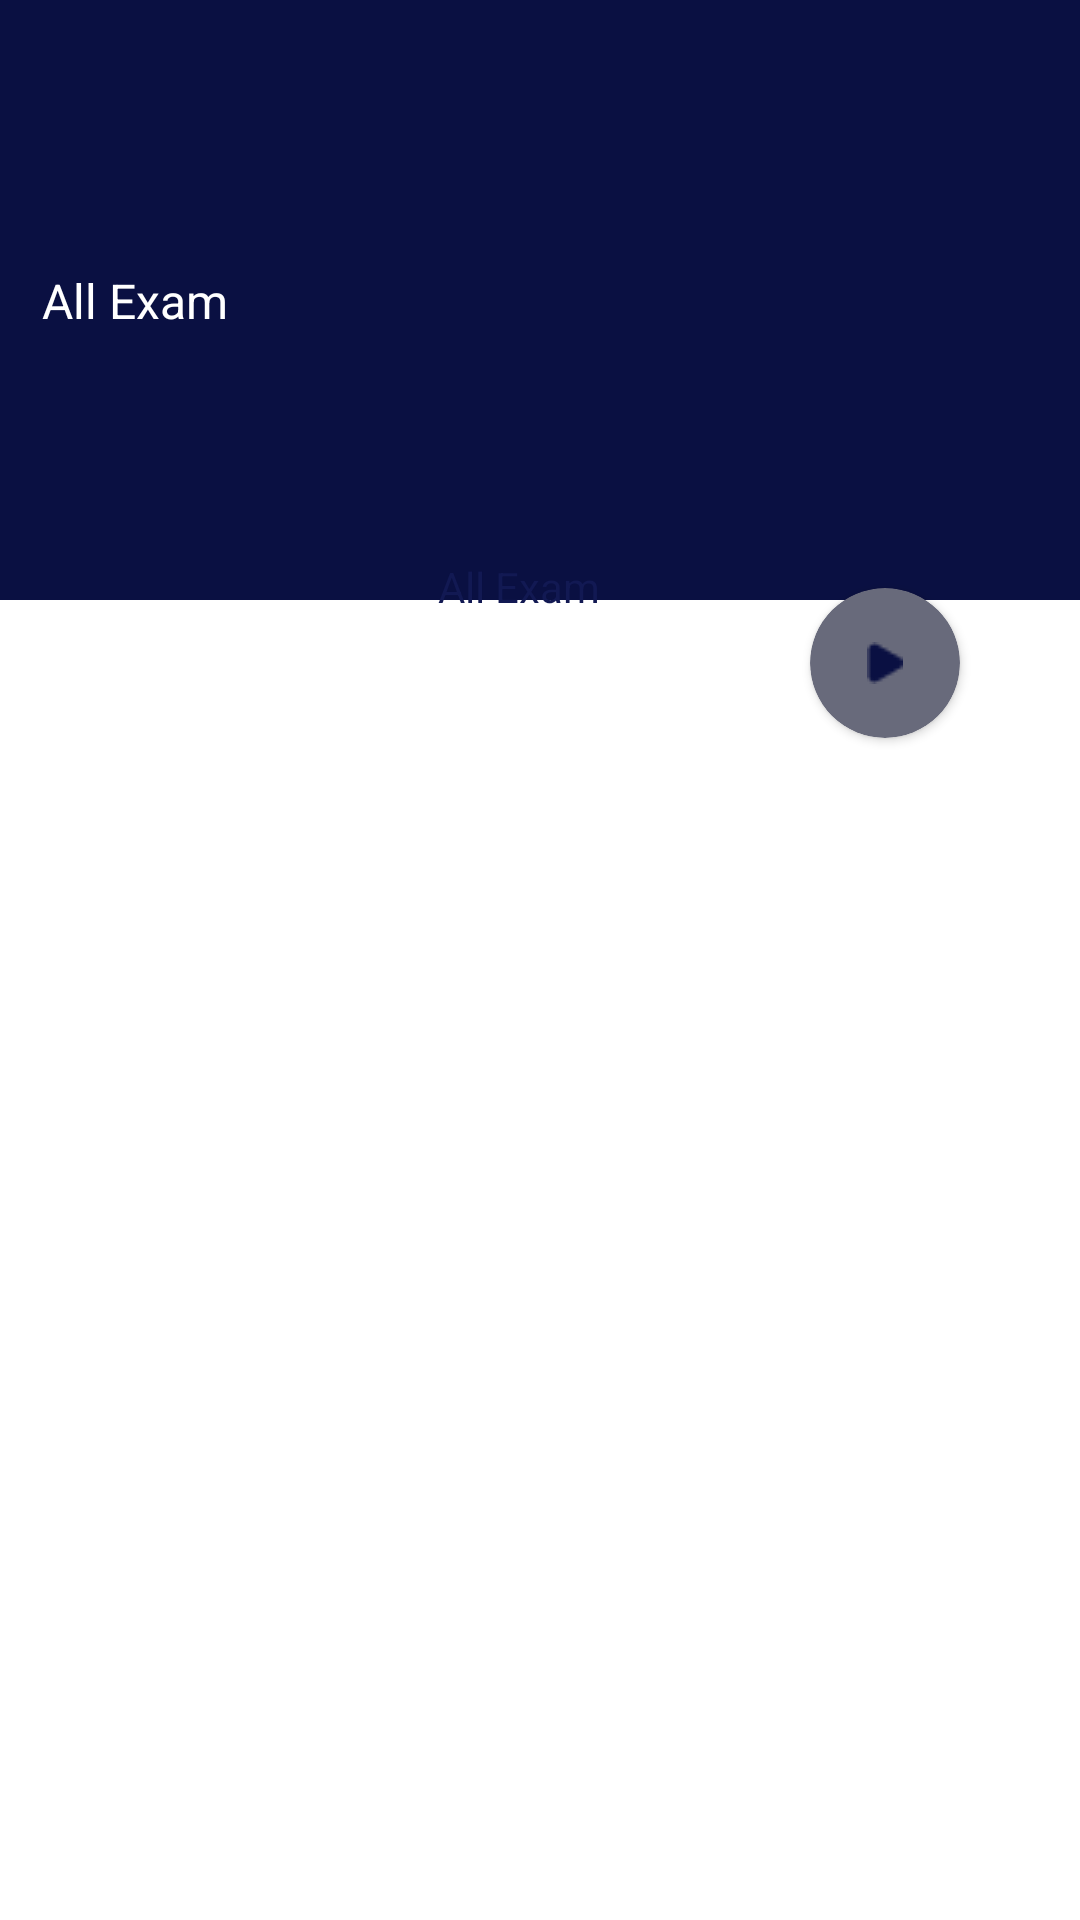

Icons on this 1080px×1920px Android screen, each with the point to tap as (x,y):
play: (885,663)
